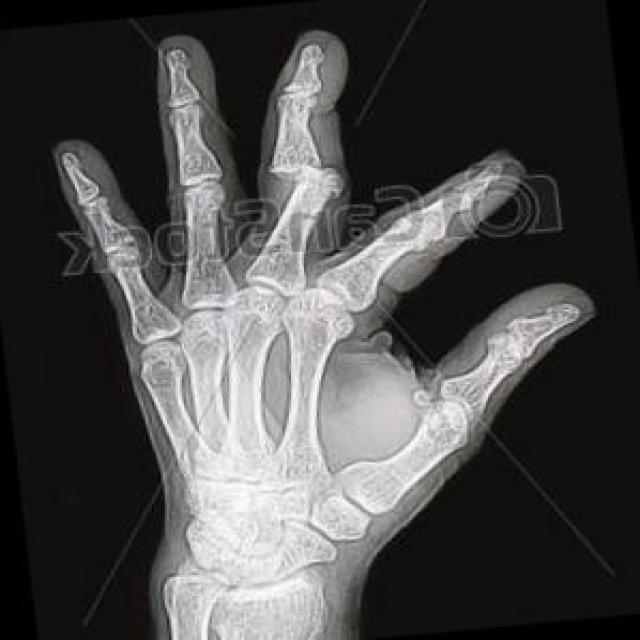Transverse: (263, 145, 355, 207)
